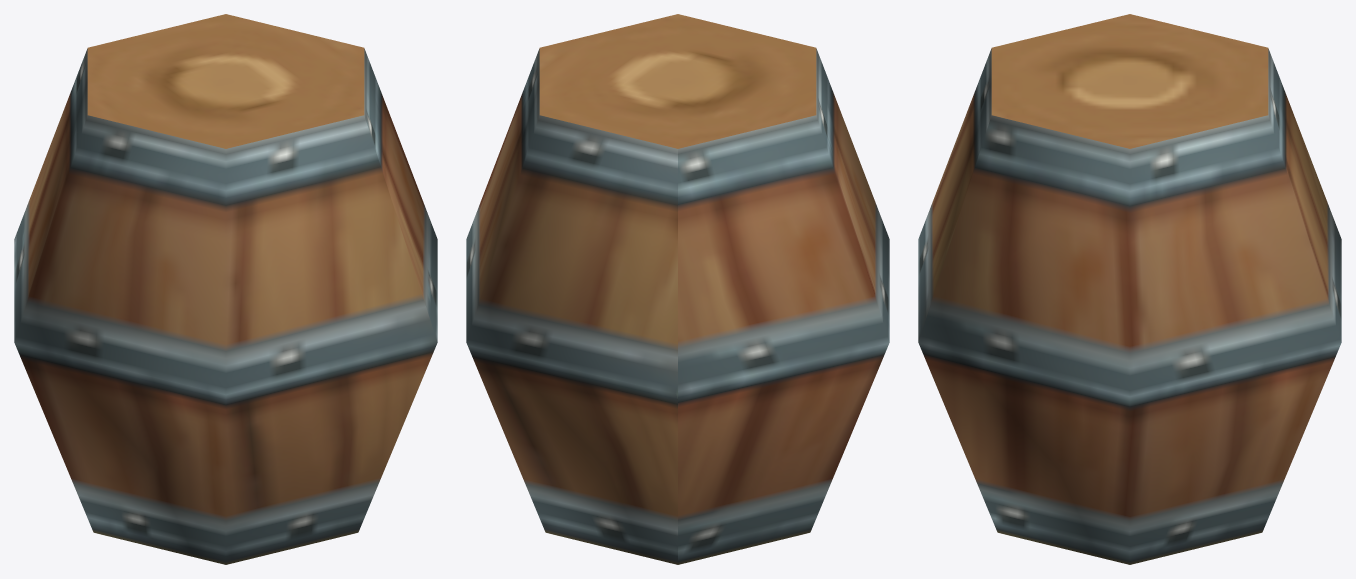
Rendered from map_plain_road23.FBX.
The picture shows the model from 3 angles, left to right: view 1: azimuth 30°, elevation 25°; view 2: azimuth 150°, elevation 25°; view 3: azimuth 270°, elevation 25°; orthographic projection.
Visible parts, largest first — view 1: Cylinder01; view 2: Cylinder01; view 3: Cylinder01.
Boxes of the visible parts, x1,y1,x2,y2 form: Cylinder01: [14, 14, 437, 564]; Cylinder01: [466, 14, 889, 564]; Cylinder01: [918, 14, 1341, 564].
Bounding box in the file's own units: 0.4649 × 0.4396 × 0.4026.
